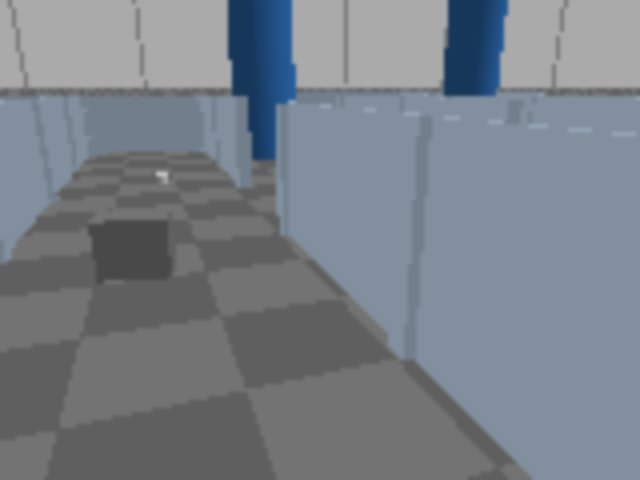obstacle: (88, 210, 177, 282)
